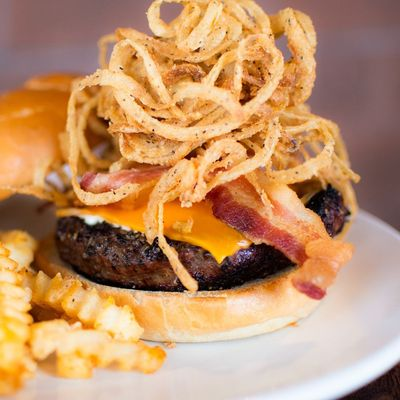soup: (35, 3, 359, 313)
